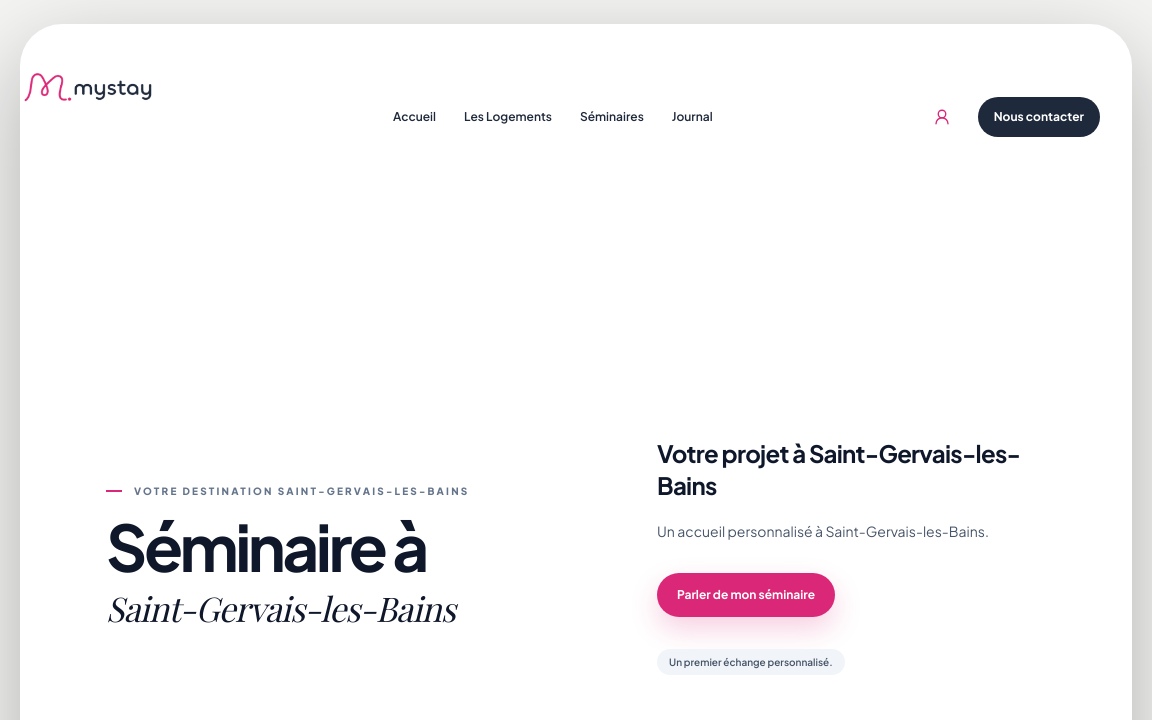
Test: 052 seminar lead modal › AC-01-01: the seminar CTAs open an accessible modal instead of a mailto link
The image size is (1152, 720).
Click the button "Parler de mon séminaire".
click(746, 594)  # box [657,572,835,616]
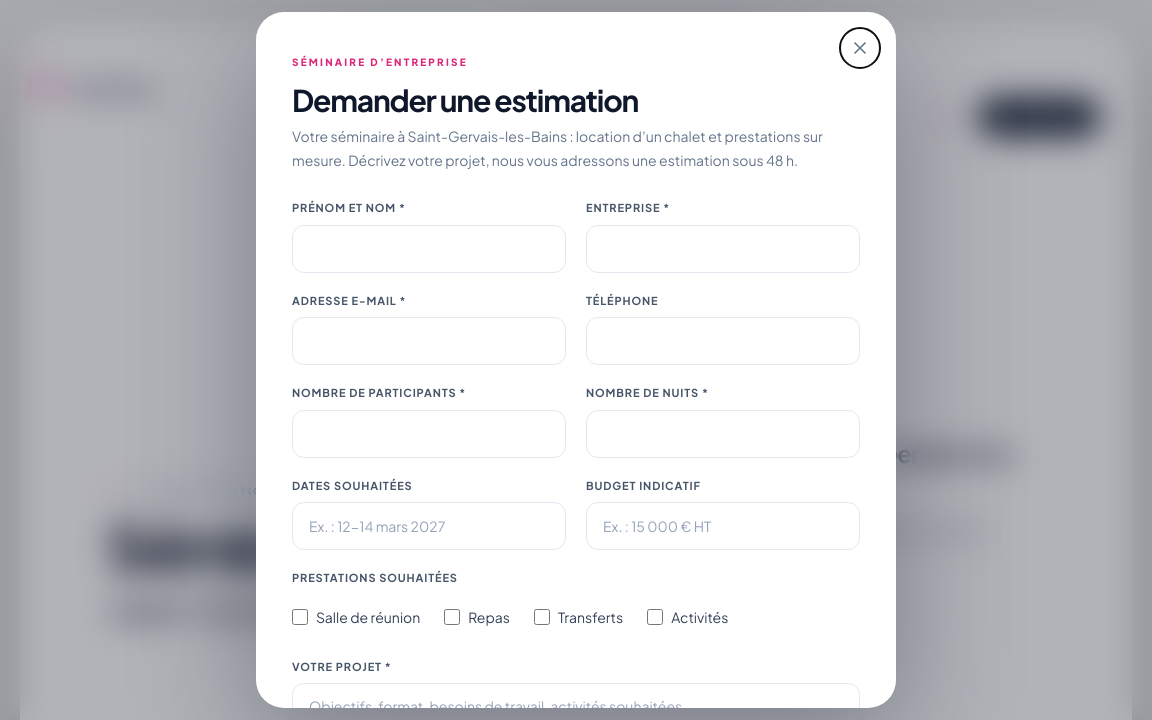
Result: the dialog "Demander une estimation" shows "Saint-Gervais-les-Bains" at [292,127,823,169]
Result: the dialog "Demander une estimation" shows "location d’un chalet" at [292,127,823,169]
Press Escape in the dialog "Demander une estimation", box [256,12,896,708]
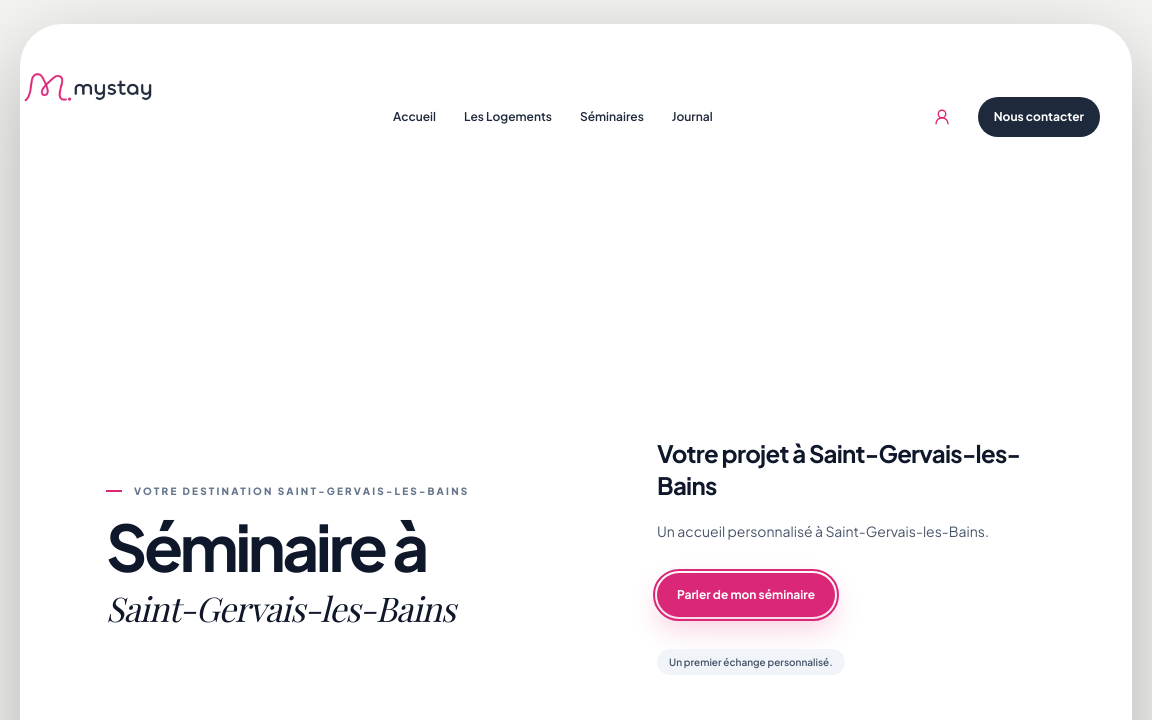
Result: the dialog is gone
